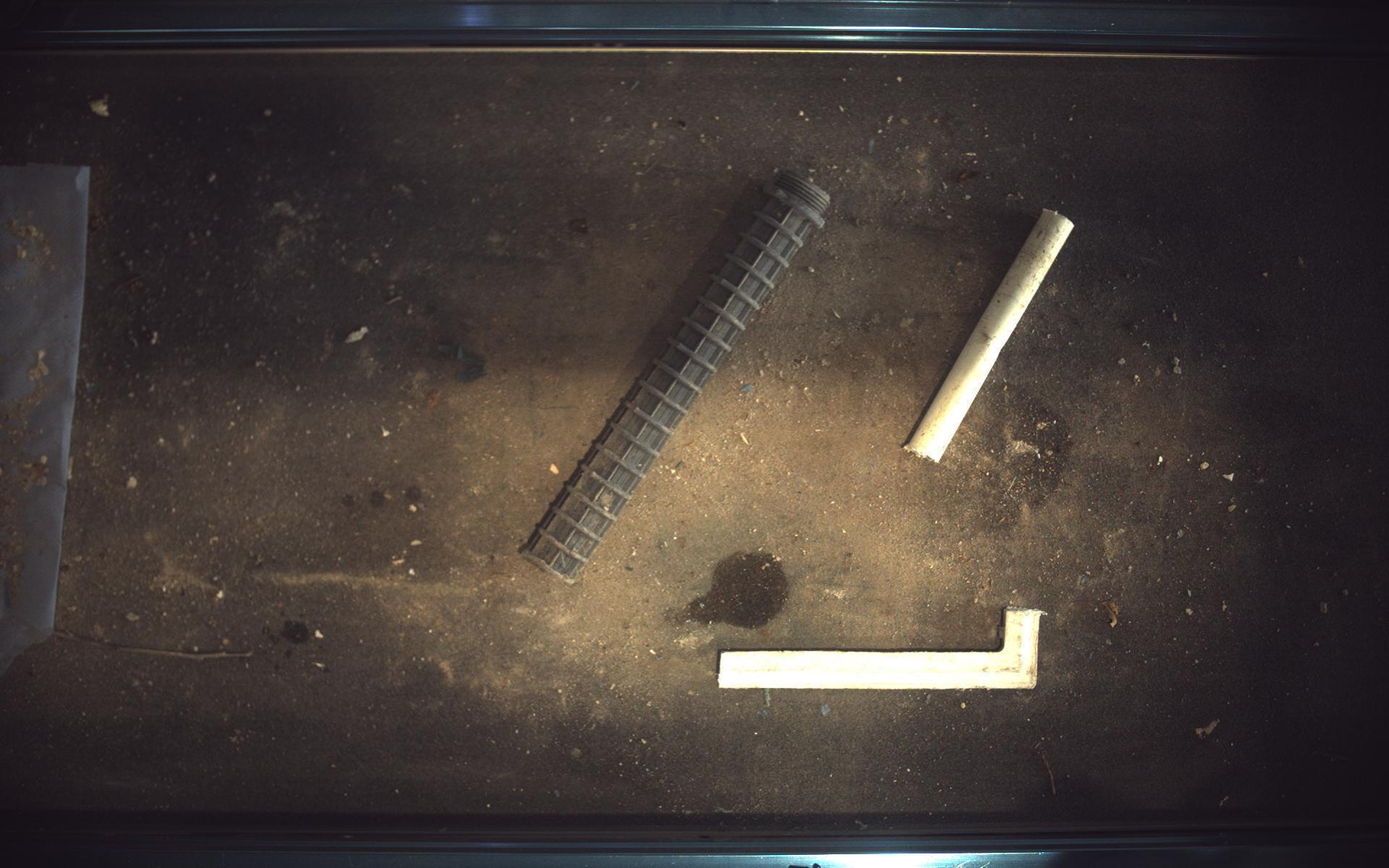pipes: (906, 208, 1076, 462)
plastic: (523, 169, 831, 583), (720, 608, 1045, 691)
